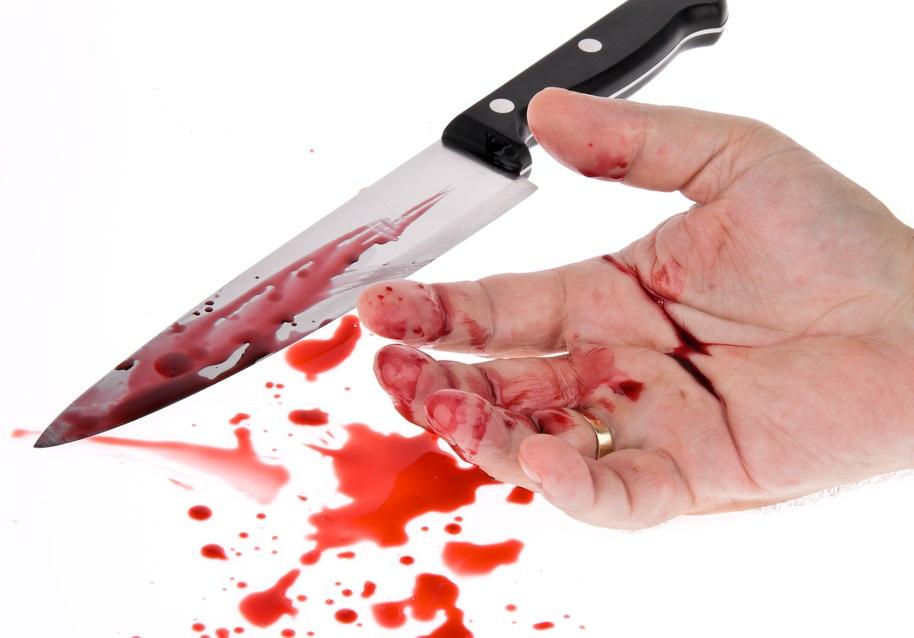weapon: (32, 0, 730, 450)
